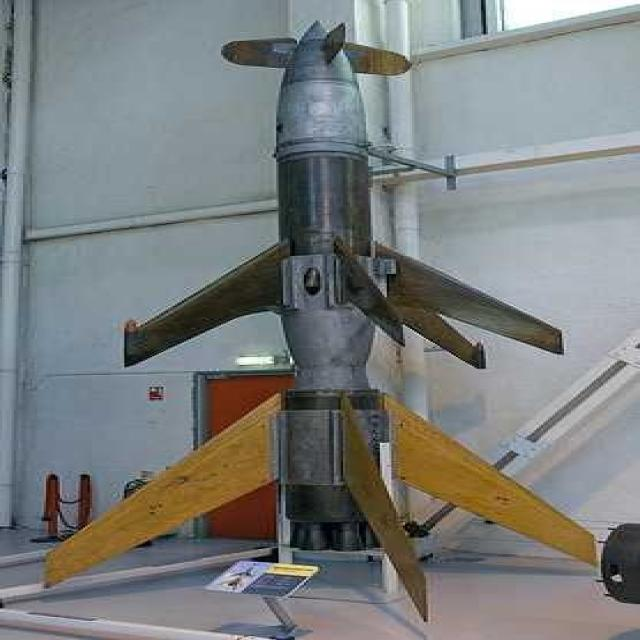missile: (116, 21, 584, 602)
